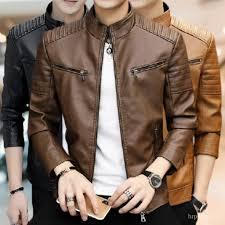jacket: (28, 4, 198, 217)
